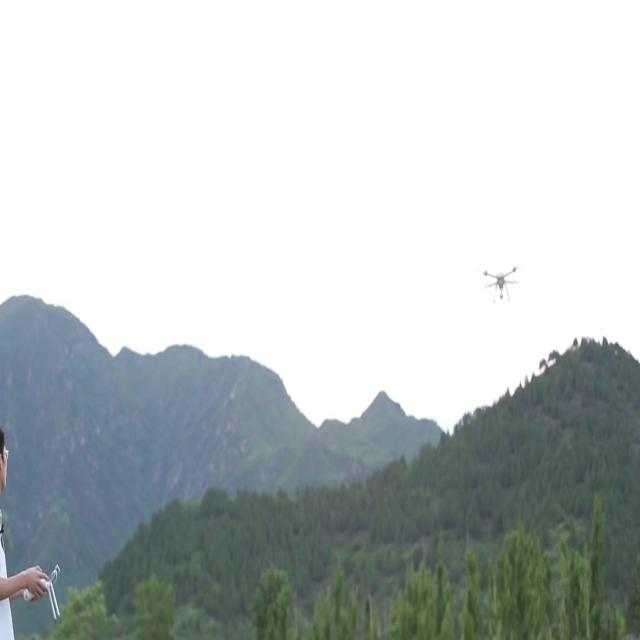drone: (482, 261, 520, 305)
